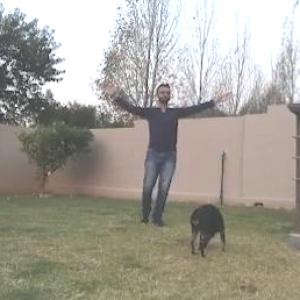takeoff: (108, 66, 242, 236)
